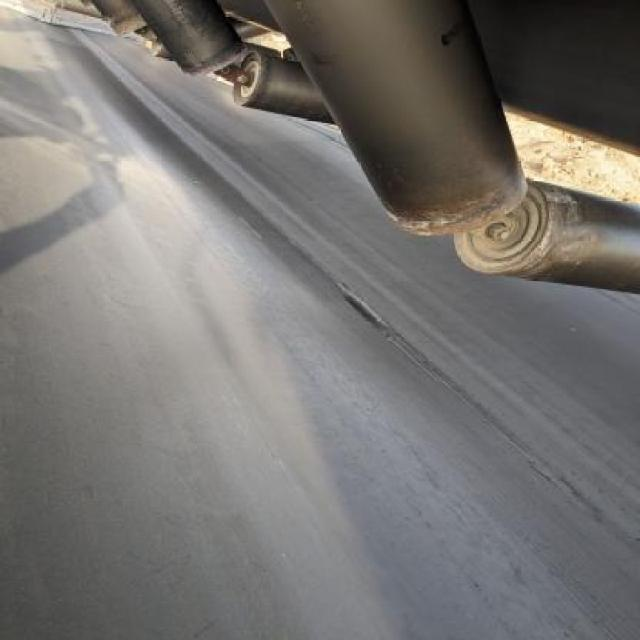Impact Damage: (331, 280, 399, 340)
